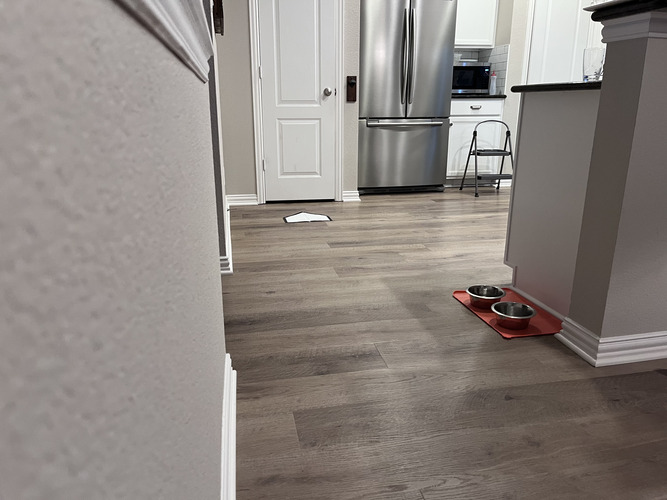homeplate: (282, 211, 331, 223)
